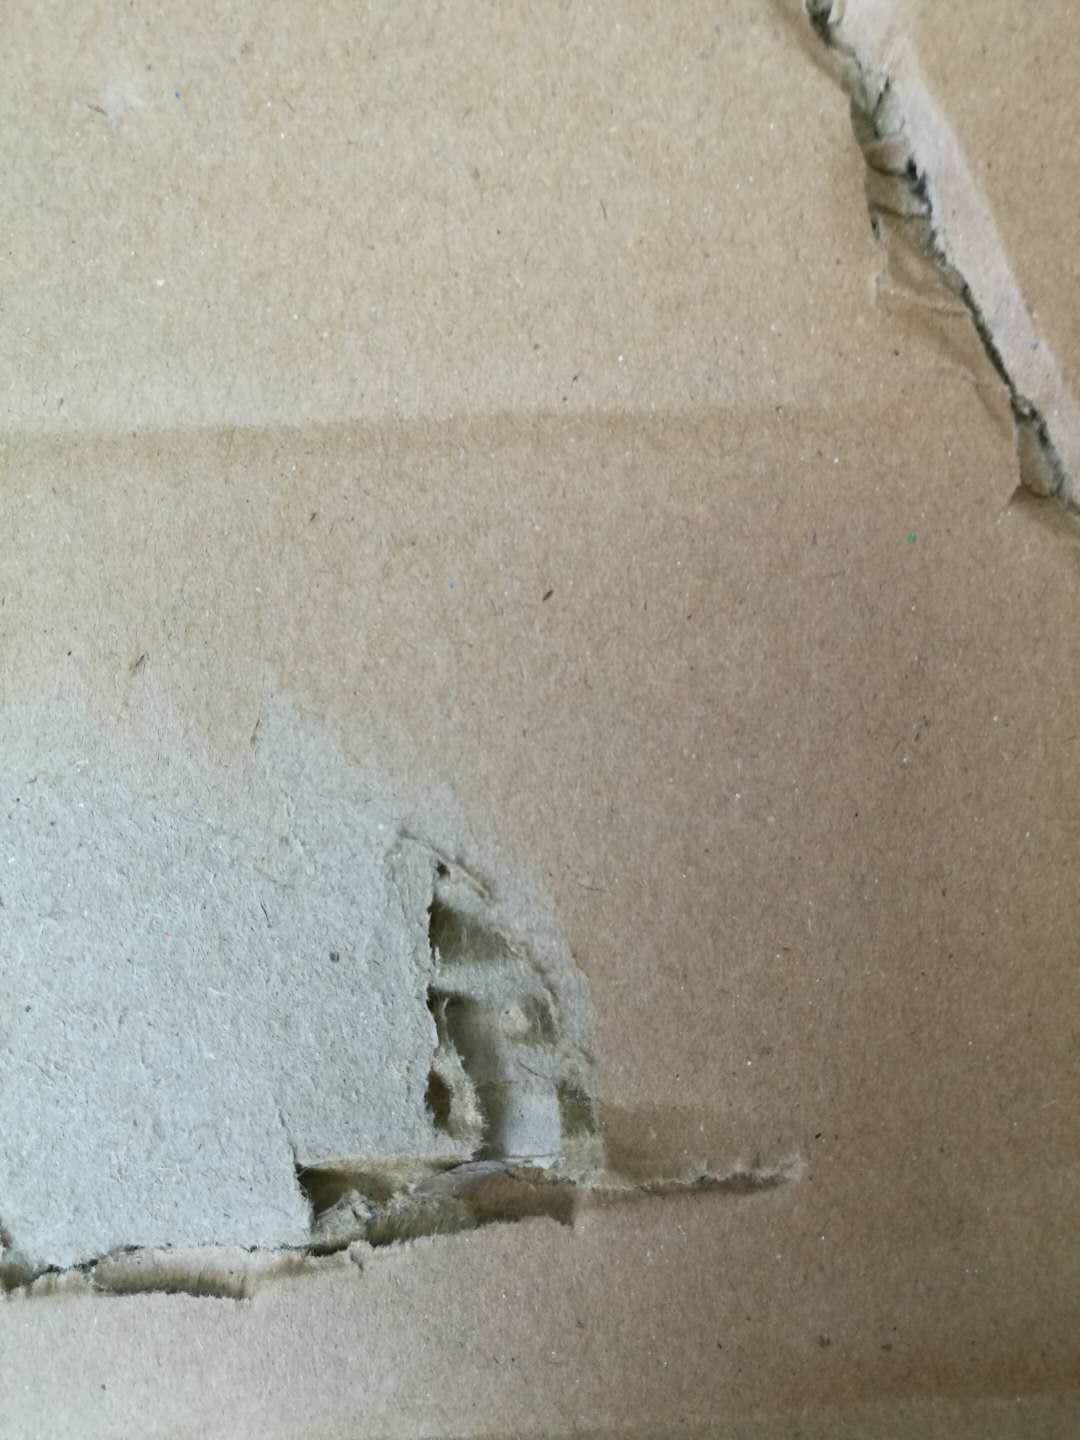defect: (1, 607, 847, 1332), (699, 5, 1080, 570), (3, 328, 1080, 523)
